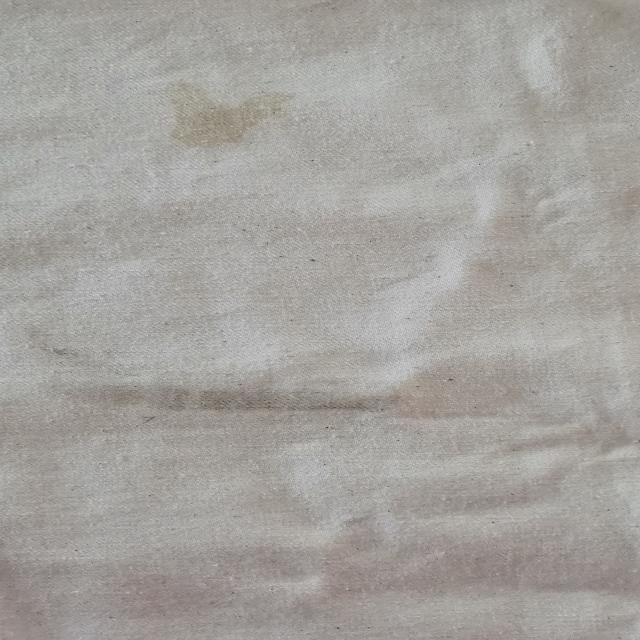taaaches: (44, 366, 444, 436), (136, 75, 308, 157)
